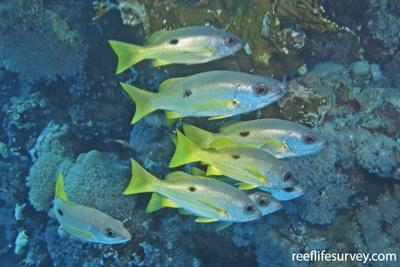Lutjanidae -Snappers-: (122, 156, 268, 222), (117, 70, 284, 123), (166, 128, 296, 187), (101, 23, 249, 74), (41, 170, 136, 243)
